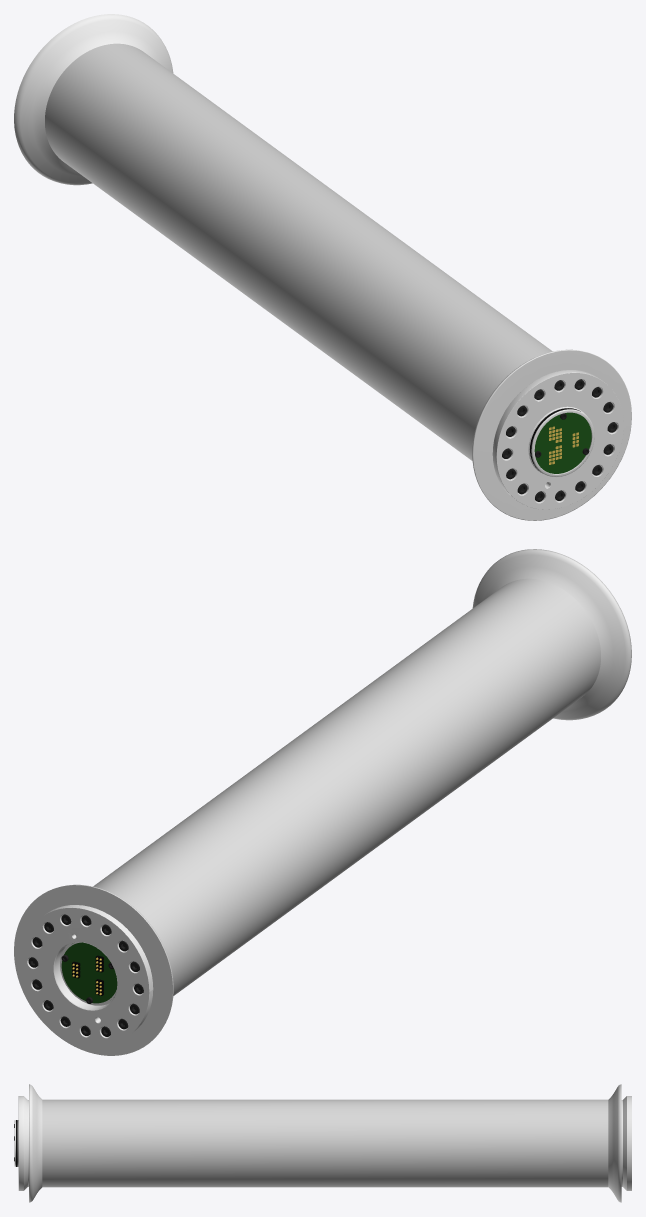
3 views of the same model, one above another, from view 1: azimuth 30°, elevation 25°; view 2: azimuth 150°, elevation 25°; view 3: azimuth 270°, elevation 25° (orthographic). The views are drawn at different scales.
Parts seen in each view (by area): view 1: I116.001; view 2: I116.001; view 3: I116.001.
Part boxes in pixels (x1,y1,x2,y2): I116.001: [14, 14, 631, 520]; I116.001: [14, 549, 631, 1055]; I116.001: [14, 1084, 631, 1202].
Size of the model in its own units: 0.116 by 0.116 by 0.6047.
